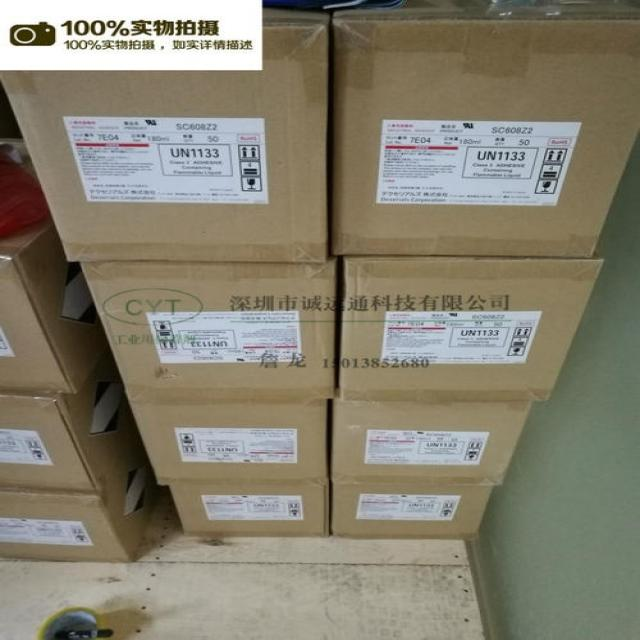box: (0, 8, 330, 261), (330, 11, 639, 258), (340, 250, 606, 400), (78, 255, 339, 402), (0, 419, 168, 562), (0, 344, 131, 491), (0, 218, 105, 393), (330, 398, 533, 484), (128, 400, 330, 485), (331, 484, 492, 540), (168, 484, 329, 537)
